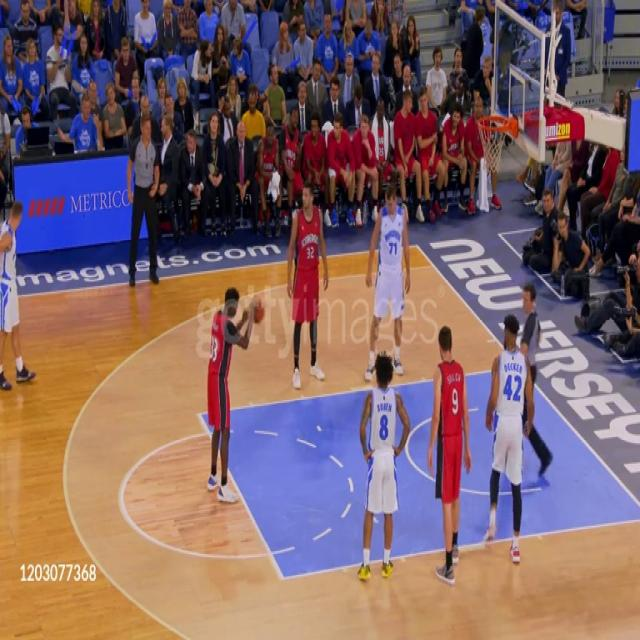ball: (249, 295, 265, 324)
